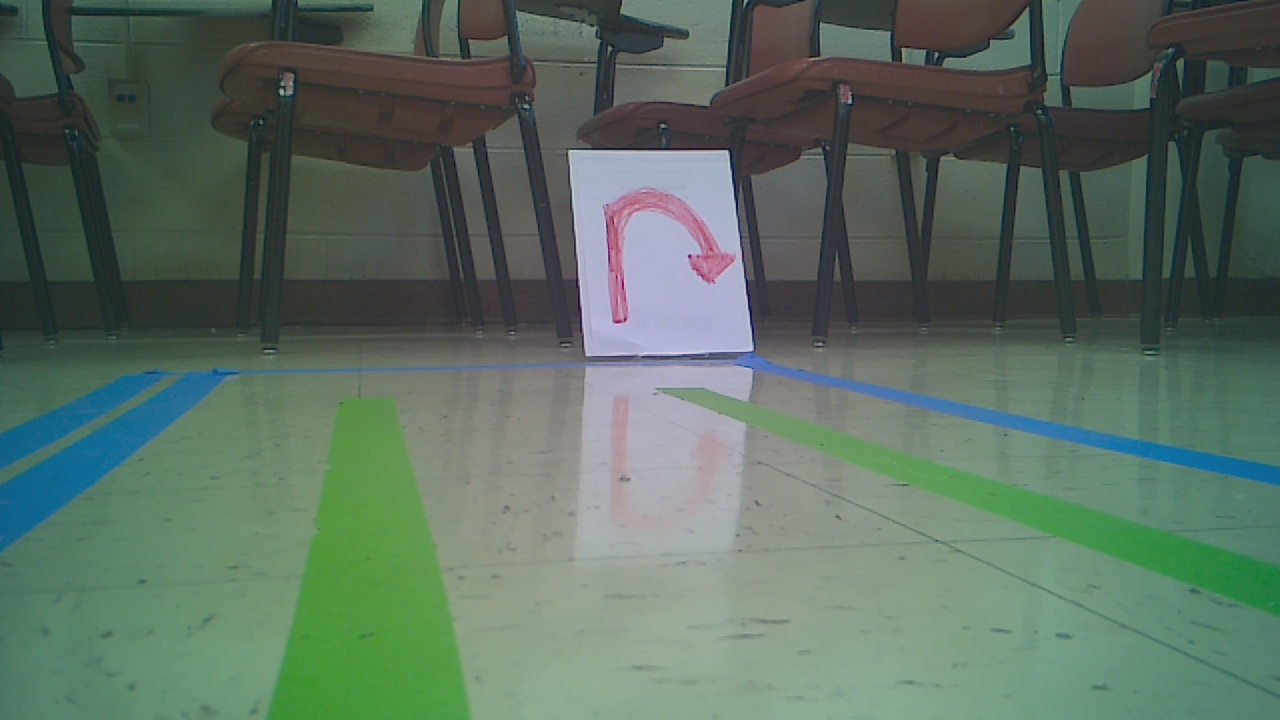greenline: (665, 389, 1264, 604), (267, 375, 473, 720)
uturn: (591, 184, 742, 323)
